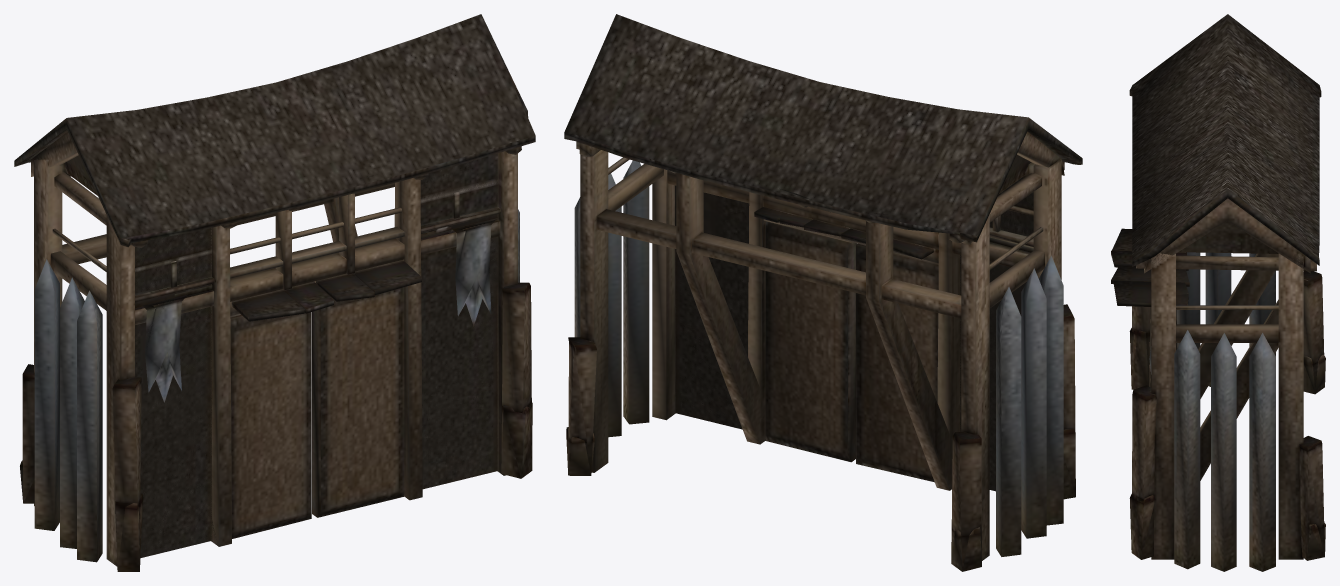
Rendered from gate1.glb.
The picture shows the model from 3 angles, left to right: view 1: azimuth 30°, elevation 25°; view 2: azimuth 150°, elevation 25°; view 3: azimuth 270°, elevation 25°; orthographic projection. The views are drawn at different scales.
Parts seen in each view (by area): view 1: tripo_node_ce48196d; view 2: tripo_node_ce48196d; view 3: tripo_node_ce48196d.
Part boxes in pixels (x1=…): tripo_node_ce48196d: x1=14, y1=14, x2=535, y2=571; tripo_node_ce48196d: x1=564, y1=14, x2=1082, y2=571; tripo_node_ce48196d: x1=1111, y1=14, x2=1325, y2=571.
Bounding box in the file's own units: 11.83 × 10.72 × 5.58.
1 material, 1 textured.
